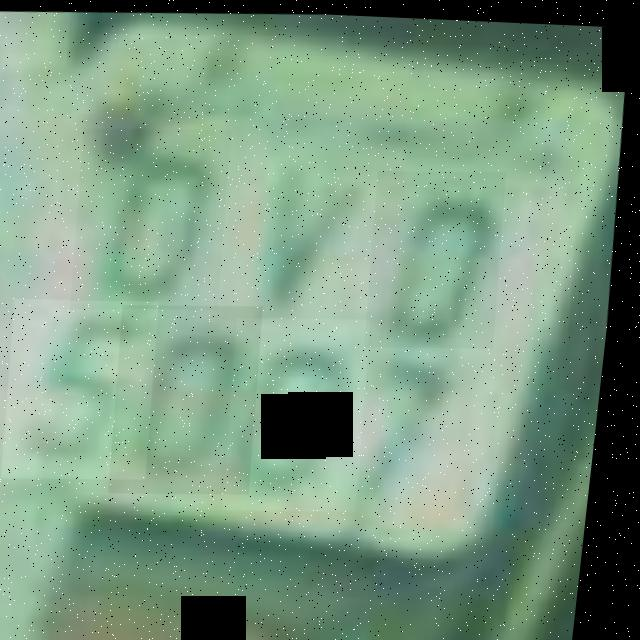0: (113, 298, 276, 496), (227, 310, 384, 512)
5: (5, 294, 171, 484)
7: (328, 327, 487, 528)
D: (366, 163, 515, 347)
O: (70, 122, 240, 312)
Y: (222, 142, 384, 328)
